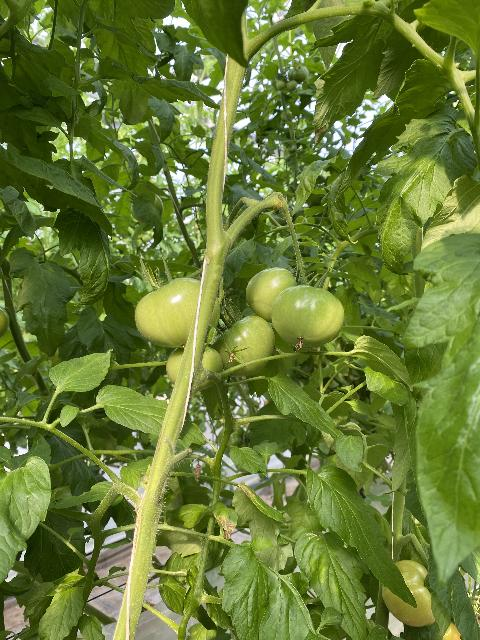b_green: (134, 277, 220, 349), (270, 284, 345, 347), (207, 314, 275, 377), (246, 267, 297, 323), (166, 345, 224, 393)
b_half_ripened: (382, 560, 441, 627)
